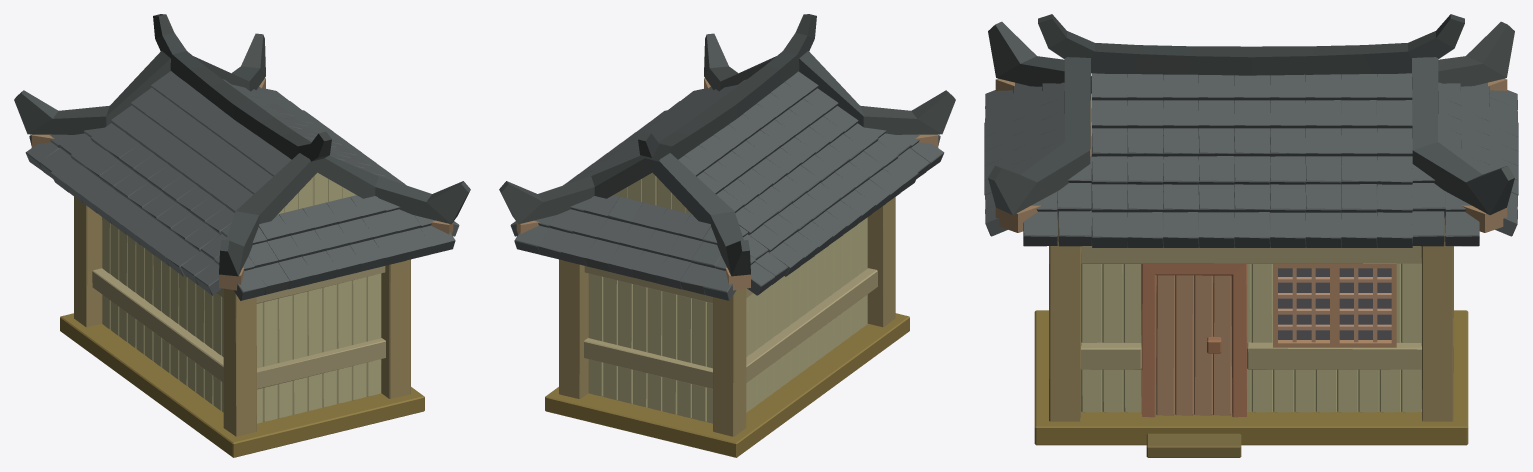
The model's file is House2.fbx.
3 views of the same model, side by side, from view 1: azimuth 30°, elevation 25°; view 2: azimuth 150°, elevation 25°; view 3: azimuth 270°, elevation 25° (orthographic). The views are drawn at different scales.
Parts seen in each view (by area): view 1: 瓦片, 框, 墙面, 柱子, 地基, 墙面.001, 瓦片.001, 屋檐, 瓦片.002, 瓦片.003, 梁.003, 梁.002 (+3 smaller); view 2: 瓦片, 框, 墙面, 柱子, 地基, 墙面.001, 瓦片.001, 屋檐, 瓦片.002, 瓦片.003, 梁.003, 梁.002 (+3 smaller); view 3: 瓦片, 墙面.001, 框, 地基, 屋檐, 柱子, 门面, 瓦片.001, 瓦片.003, 门框, 梁.001, 窗花 (+7 smaller).
Part boxes in pixels (x1=…): 瓦片: x1=50, y1=71, x2=406, y2=276; 框: x1=14, y1=33, x2=470, y2=276; 墙面: x1=256, y1=273, x2=381, y2=423; 柱子: x1=74, y1=196, x2=410, y2=436; 地基: x1=60, y1=313, x2=424, y2=457; 墙面.001: x1=102, y1=217, x2=223, y2=412; 瓦片.001: x1=259, y1=195, x2=408, y2=289; 屋檐: x1=153, y1=14, x2=331, y2=161; 瓦片.002: x1=29, y1=135, x2=455, y2=300; 瓦片.003: x1=25, y1=87, x2=459, y2=295; 梁.003: x1=92, y1=268, x2=223, y2=382; 梁.002: x1=257, y1=338, x2=385, y2=389; 瓦片: x1=563, y1=71, x2=918, y2=276; 框: x1=499, y1=33, x2=955, y2=276; 墙面: x1=588, y1=273, x2=712, y2=423; 柱子: x1=559, y1=197, x2=895, y2=436; 地基: x1=545, y1=313, x2=909, y2=457; 墙面.001: x1=746, y1=217, x2=867, y2=412; 瓦片.001: x1=561, y1=195, x2=710, y2=289; 屋檐: x1=638, y1=14, x2=816, y2=161; 瓦片.002: x1=514, y1=135, x2=940, y2=300; 瓦片.003: x1=510, y1=87, x2=944, y2=295; 梁.003: x1=746, y1=268, x2=877, y2=382; 梁.002: x1=584, y1=338, x2=712, y2=389; 瓦片: x1=1091, y1=73, x2=1412, y2=247; 墙面.001: x1=1081, y1=263, x2=1421, y2=412; 框: x1=988, y1=21, x2=1514, y2=214; 地基: x1=1034, y1=310, x2=1468, y2=445; 屋檐: x1=1038, y1=14, x2=1464, y2=78; 柱子: x1=1049, y1=224, x2=1453, y2=421; 门面: x1=1156, y1=275, x2=1231, y2=415; 瓦片.001: x1=984, y1=82, x2=1518, y2=195; 瓦片.003: x1=1023, y1=76, x2=1479, y2=246; 门框: x1=1141, y1=264, x2=1247, y2=417; 梁.001: x1=1081, y1=246, x2=1421, y2=263; 窗花: x1=1278, y1=268, x2=1391, y2=339.
Size of the model in its own units: 2.65 by 2.96 by 3.86.
